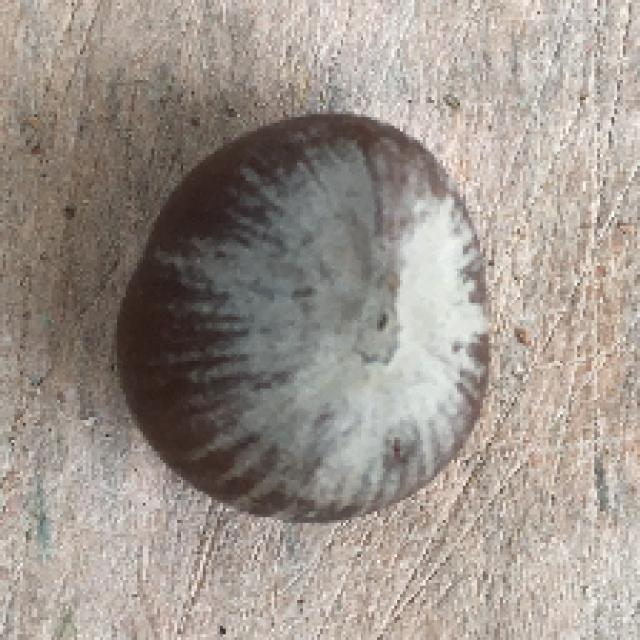damagedHazelnut: (106, 105, 491, 537)
